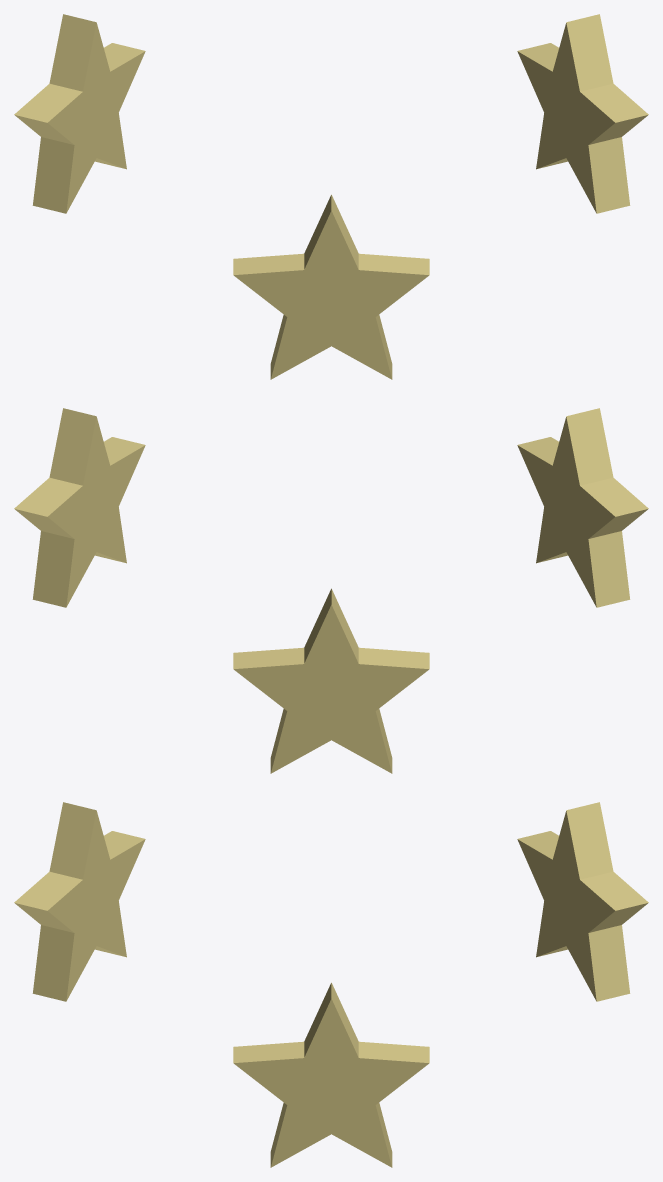
The model's file is prop_ko_stars.glb.
The picture shows the model from 3 angles, top to bottom: view 1: azimuth 30°, elevation 25°; view 2: azimuth 150°, elevation 25°; view 3: azimuth 270°, elevation 25°; orthographic projection.
Visible parts, largest first — view 1: stars; view 2: stars; view 3: stars.
Boxes of the visible parts, x1,y1,x2,y2 form: stars: [14, 14, 648, 379]; stars: [14, 408, 648, 773]; stars: [14, 802, 648, 1167].
Bounding box in the file's own units: 0.1704 × 0.0579 × 0.1967.
Materials: 1 (1 with a texture image).
